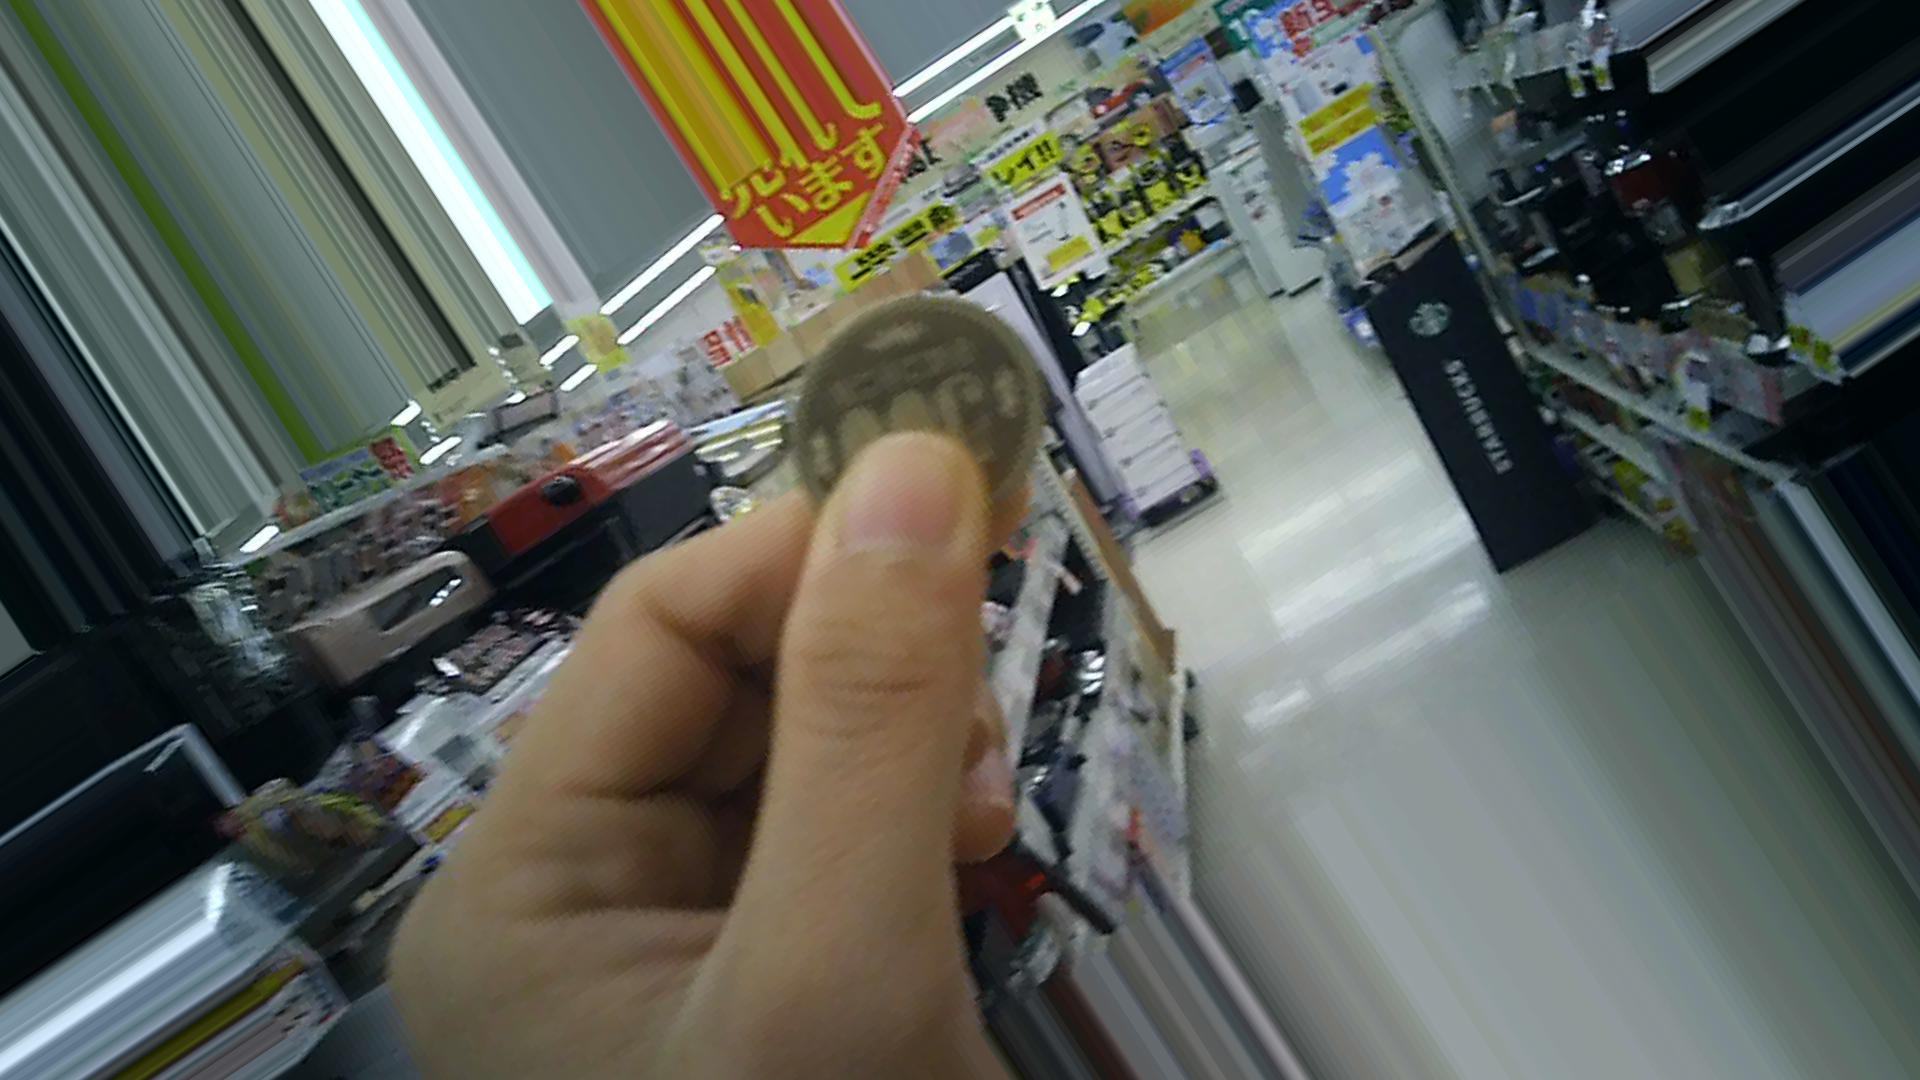500 Yen: (779, 293, 1033, 538)
